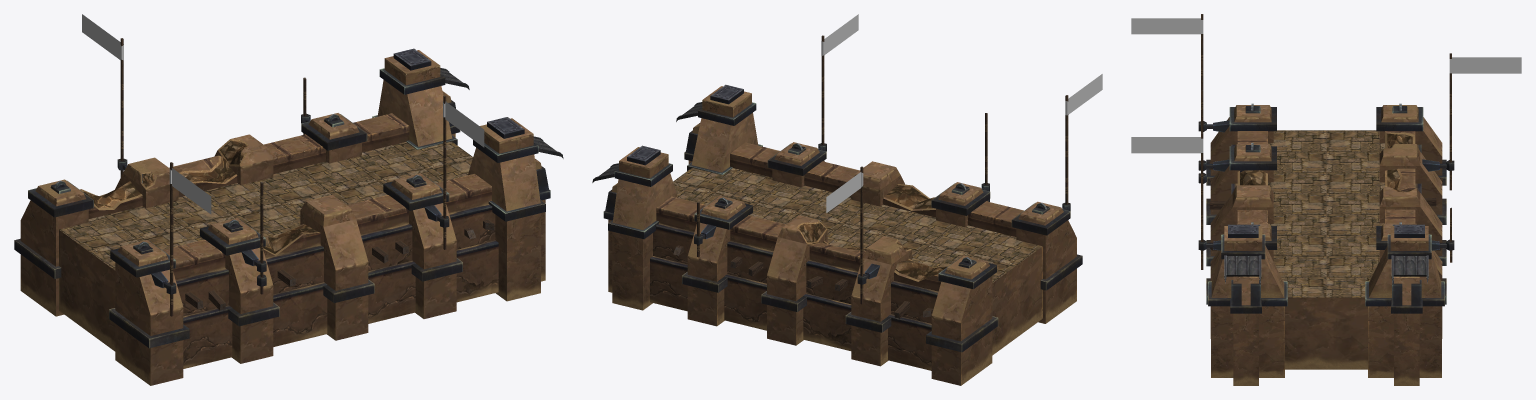
Rendered from A_zhongdianqiao_001.fbx.
3 views of the same model, side by side, from view 1: azimuth 30°, elevation 25°; view 2: azimuth 150°, elevation 25°; view 3: azimuth 270°, elevation 25° (orthographic). The views are drawn at different scales.
Visible parts, largest first — view 1: A_zhongdianqiao_001; view 2: A_zhongdianqiao_001; view 3: A_zhongdianqiao_001.
Boxes of the visible parts, bbox=[...] form: A_zhongdianqiao_001: bbox=[14, 14, 563, 385]; A_zhongdianqiao_001: bbox=[592, 14, 1102, 385]; A_zhongdianqiao_001: bbox=[1131, 14, 1521, 385].
Bounding box in the file's own units: 1104 × 561 × 986.
